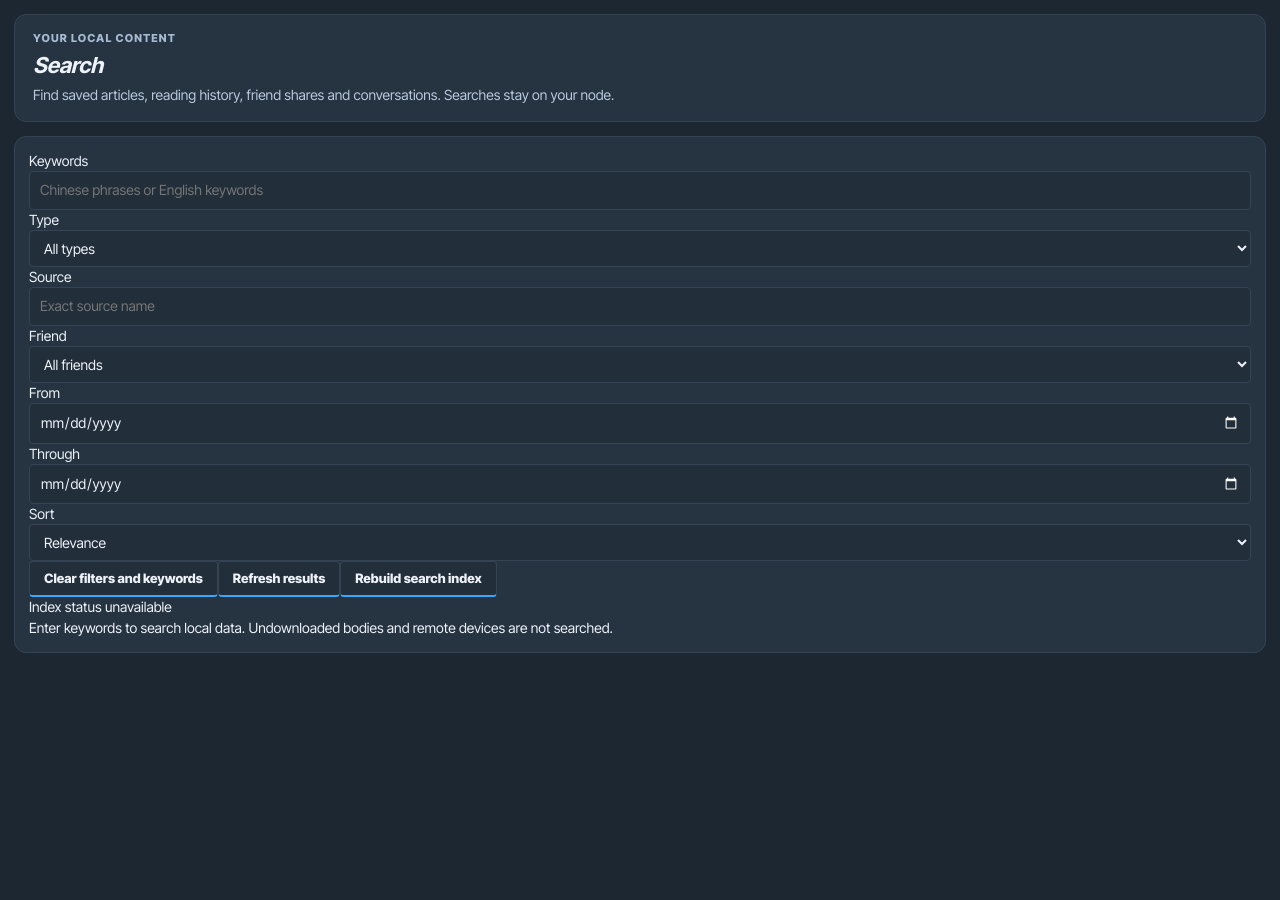
keeps loaded results and an adjacent inline error when loading more results fails outright
In the field named "Search keywords": [640, 191] box [29, 171, 1251, 210], type "result"
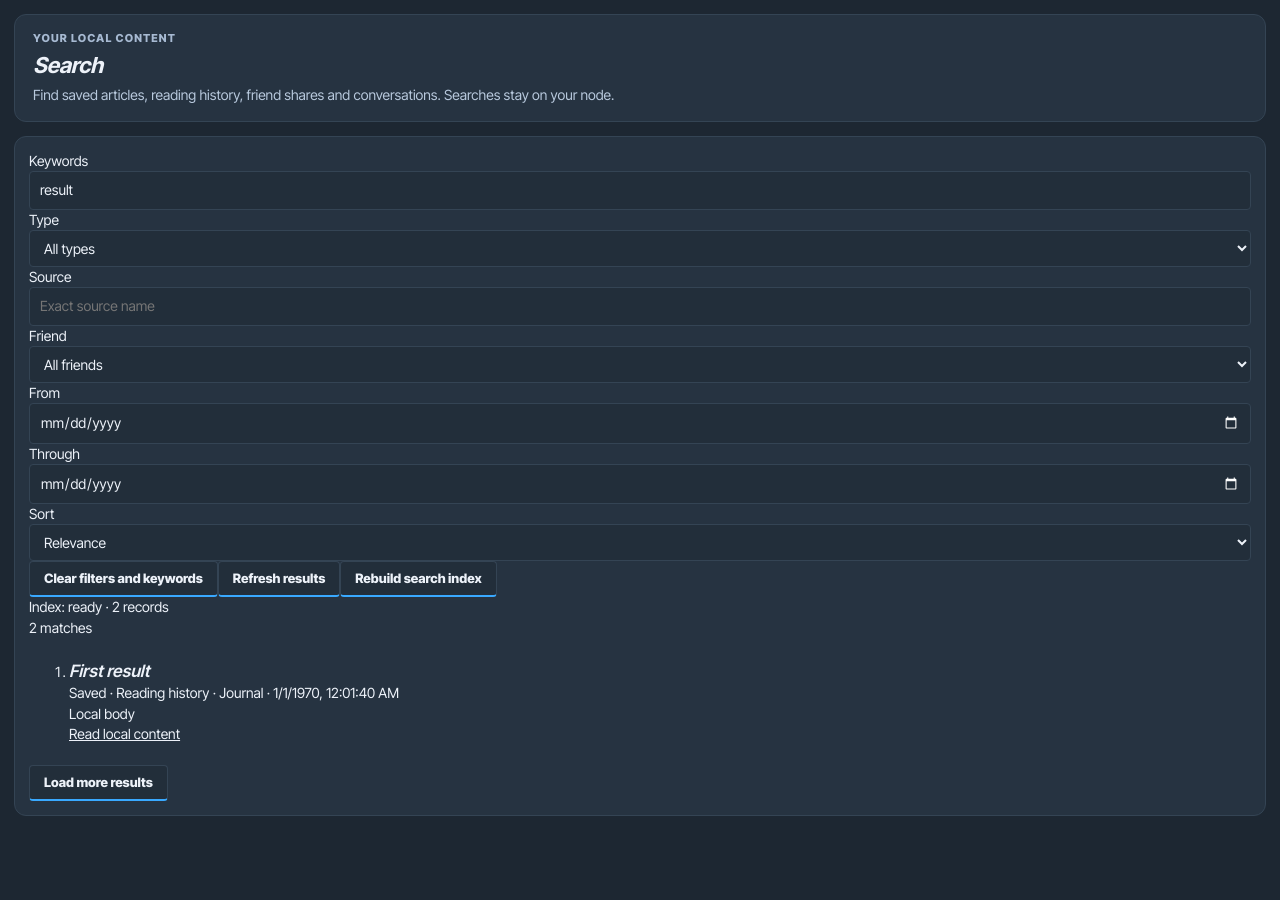
Click the button "Load more results": [98, 783] box [29, 765, 168, 801]
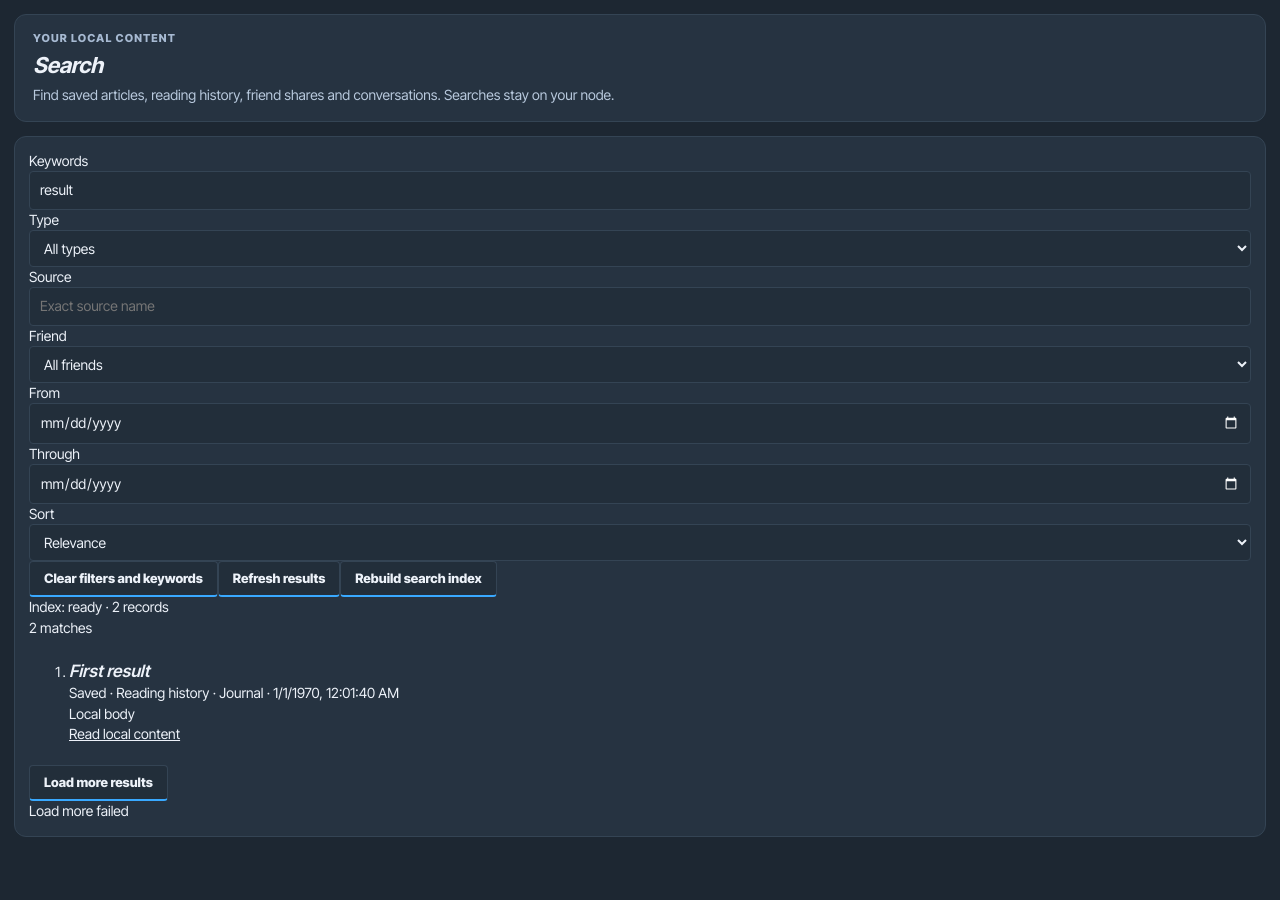
expect the heading "First result" is shown: met, box [69, 661, 150, 681]
expect the button "Load more results" is shown: met, box [29, 765, 168, 801]
expect the message "Load more failed" is shown: met, box [29, 802, 129, 819]
